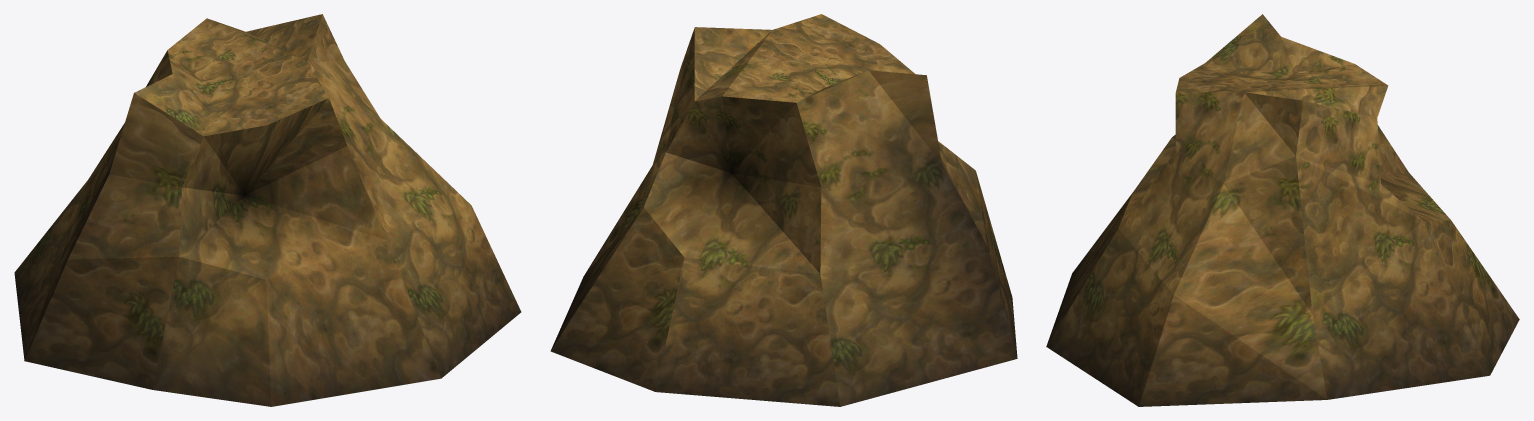
File: swamp-rat-nest-c-lod1.glb
3 renders of one model, left to right at view 1: azimuth 30°, elevation 25°; view 2: azimuth 150°, elevation 25°; view 3: azimuth 270°, elevation 25°, orthographic. The views are drawn at different scales.
Parts seen in each view (by area): view 1: swamp-rat-nest-c-lod1; view 2: swamp-rat-nest-c-lod1; view 3: swamp-rat-nest-c-lod1.
Boxes of the visible parts, bbox=[...] form: swamp-rat-nest-c-lod1: bbox=[14, 14, 521, 406]; swamp-rat-nest-c-lod1: bbox=[550, 14, 1017, 406]; swamp-rat-nest-c-lod1: bbox=[1046, 14, 1519, 406].
Size of the model in its own units: 4.99 by 2.97 by 5.03.
1 material, 1 textured.
